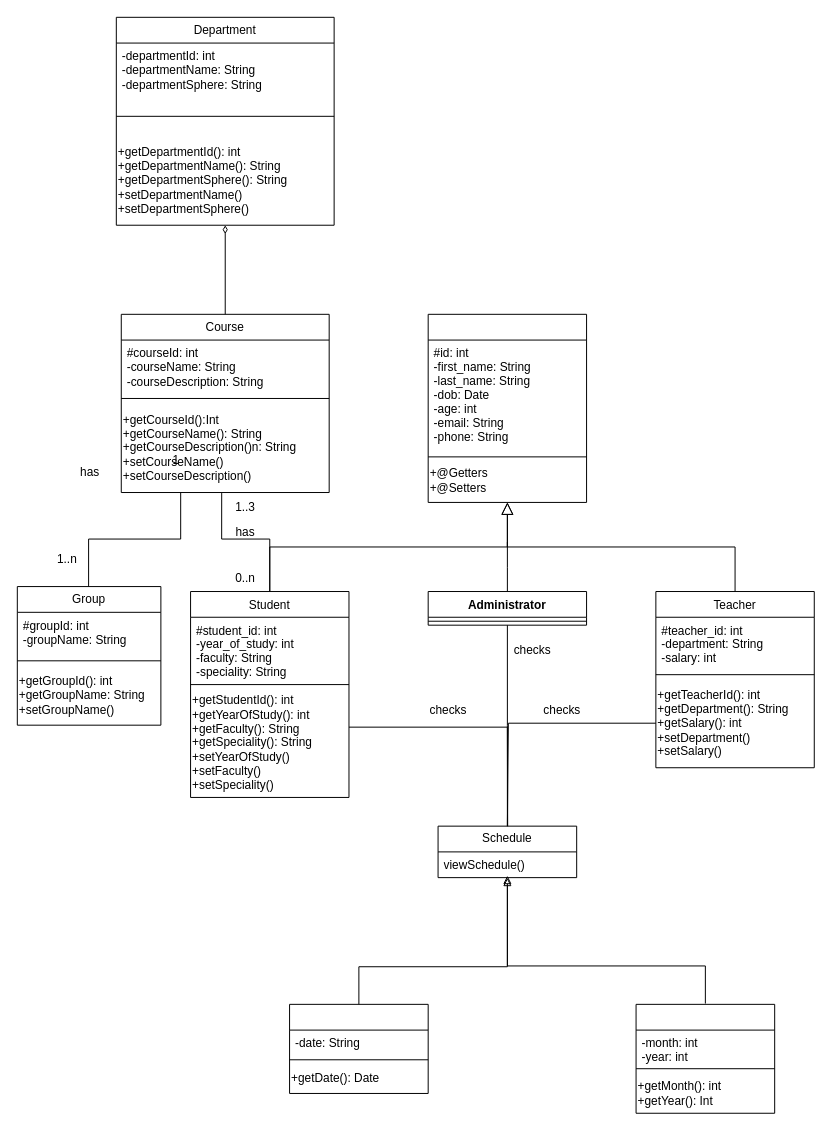
This 832x1131 diagram has some shape labels left out. Here are the shapes that lost their labels. From the top down, the box of each, then its label:
(427, 313, 587, 502): Person
(289, 1003, 428, 1093): DaySchedule
(635, 1003, 775, 1113): MonthSchedule
